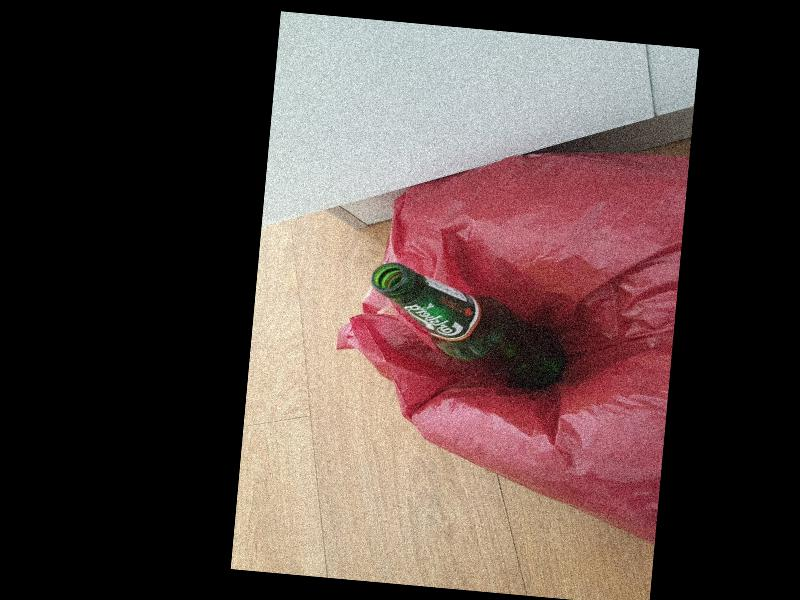Beer: (361, 262, 570, 393)
